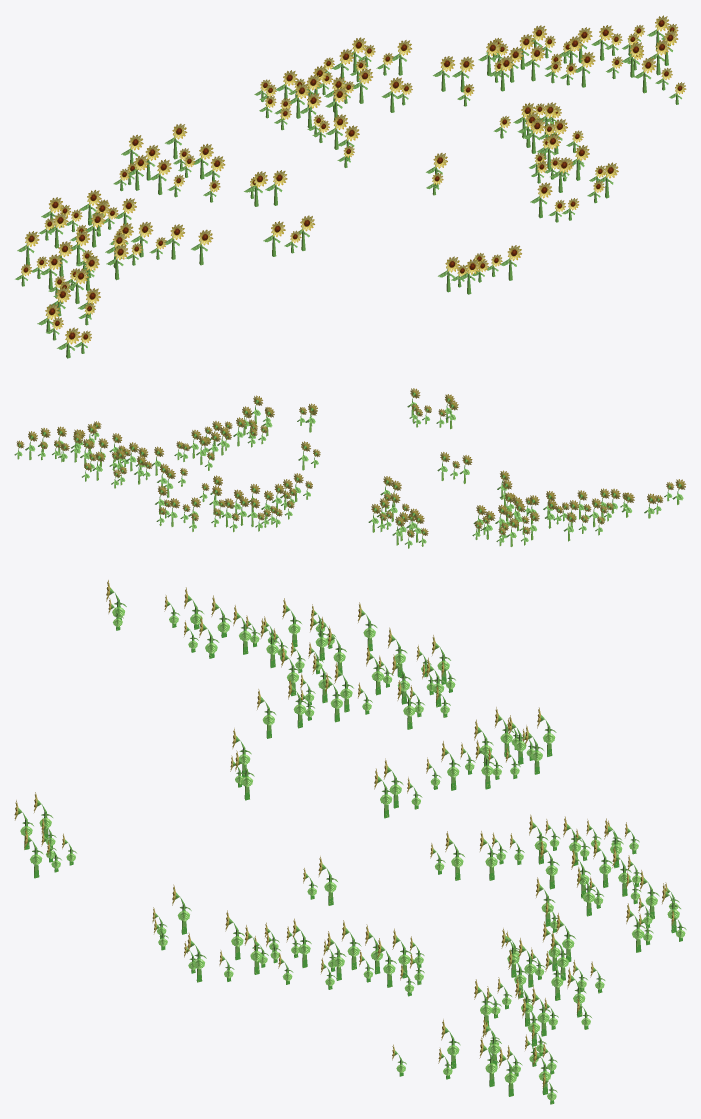
The model's file is pinnasunflower.dae.
3 renders of one model, top to bottom at view 1: azimuth 30°, elevation 25°; view 2: azimuth 150°, elevation 25°; view 3: azimuth 270°, elevation 25°, orthographic. The views are drawn at different scales.
Parts seen in each view (by area): view 1: m0; view 2: m0; view 3: m0.
Part boxes in pixels (x1,y1,x2,y2): m0: (15,15,686,358); m0: (14,388,685,548); m0: (14,580,686,1104).
Size of the model in its own units: 8497 by 572 by 4915.
Materials: 1 (1 with a texture image).
